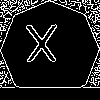X: (25, 25, 59, 71)
